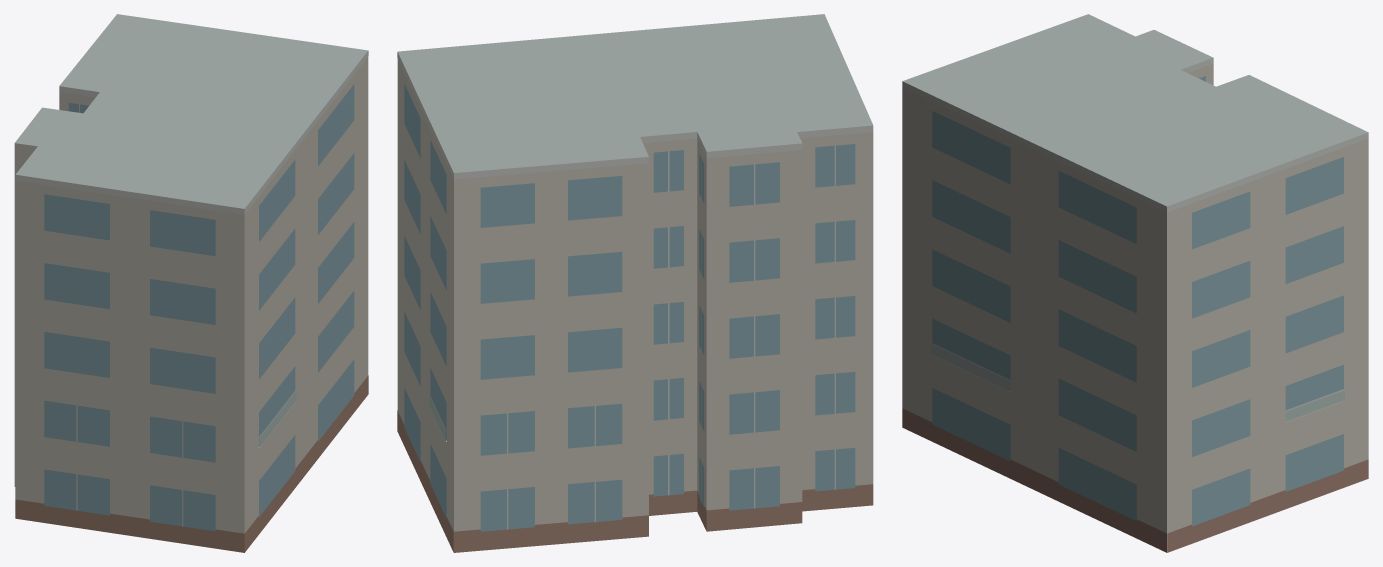
File: survey-upis-32655309.glb
The picture shows the model from 3 angles, left to right: view 1: azimuth 30°, elevation 25°; view 2: azimuth 150°, elevation 25°; view 3: azimuth 270°, elevation 25°; orthographic projection. The views are drawn at different scales.
Visible parts, largest first — view 1: survey-upis-32655309.tmp; view 2: survey-upis-32655309.tmp; view 3: survey-upis-32655309.tmp.
Boxes of the visible parts, box(x1,y1,x2,y2) form: survey-upis-32655309.tmp: box(14, 14, 368, 552); survey-upis-32655309.tmp: box(397, 14, 873, 552); survey-upis-32655309.tmp: box(902, 14, 1368, 552).
Bounding box in the file's own units: 17.06 × 14.3 × 17.46.
